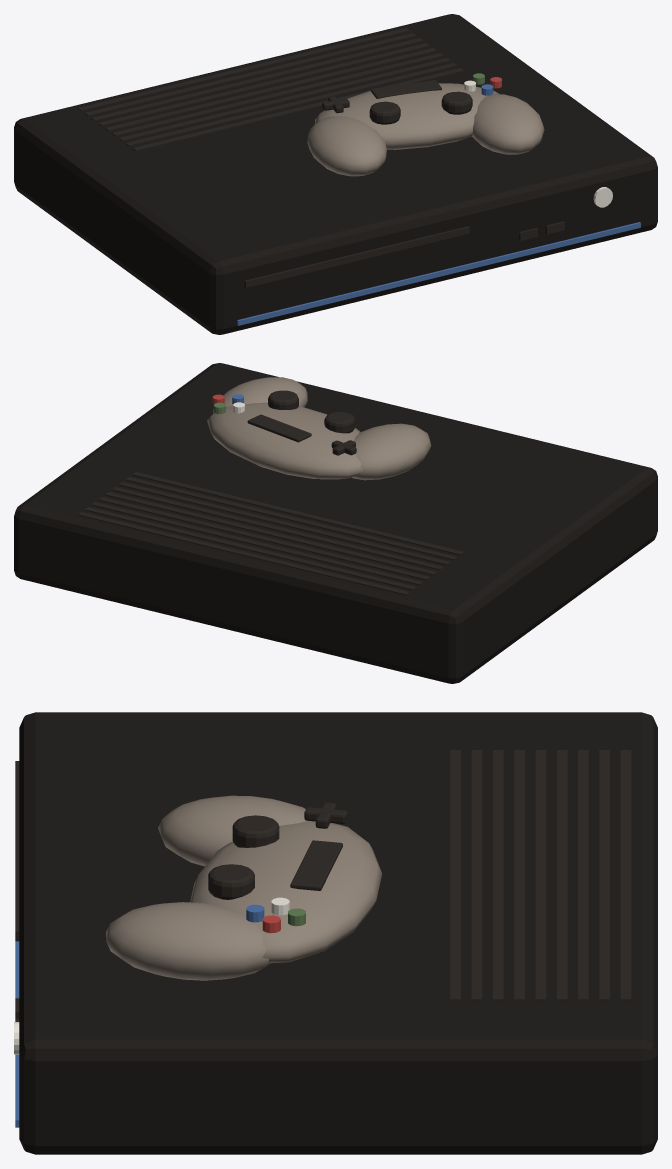
The model's file is hh_cat_console.glb.
3 renders of one model, top to bottom at view 1: azimuth 30°, elevation 25°; view 2: azimuth 150°, elevation 25°; view 3: azimuth 270°, elevation 25°, orthographic. The views are drawn at different scales.
Visible parts, largest first — view 1: body, pad_body, pad_grip, pad_grip.001, led_strip, disc_slot, vent.005, vent.004, vent, vent.001, vent.002, vent.006 (+6 smaller); view 2: body, pad_body, pad_grip, vent.002, vent.005, vent, vent.001, vent.003, vent.004, vent.006, vent.008, vent.007 (+4 smaller); view 3: body, pad_body, pad_grip.001, pad_grip, vent, vent.004, vent.007, vent.001, vent.002, vent.003, vent.005, vent.006 (+6 smaller).
Part boxes in pixels (box(x1,y1,x2,y2)): body: box(14, 14, 657, 334); pad_body: box(314, 83, 499, 149); pad_grip: box(307, 116, 387, 176); pad_grip.001: box(472, 94, 544, 154); led_strip: box(237, 222, 640, 325); disc_slot: box(244, 226, 469, 287); vent.005: box(112, 53, 443, 136); vent.004: box(105, 48, 436, 131); vent: box(78, 28, 409, 111); vent.001: box(85, 33, 416, 116); vent.002: box(91, 38, 423, 121); vent.006: box(119, 58, 450, 141); body: box(14, 363, 657, 683); pad_body: box(207, 402, 364, 479); pad_grip: box(352, 423, 431, 480); vent.002: box(91, 502, 423, 585); vent.005: box(112, 487, 443, 570); vent: box(78, 512, 409, 595); vent.001: box(85, 507, 416, 590); vent.003: box(98, 497, 429, 580); vent.004: box(105, 492, 436, 575); vent.006: box(119, 482, 450, 565); vent.008: box(132, 472, 463, 555); vent.007: box(126, 477, 457, 560); body: box(19, 712, 657, 1154); pad_body: box(190, 821, 382, 963); pad_grip.001: box(106, 902, 270, 980); pad_grip: box(158, 795, 307, 866); vent: box(620, 750, 631, 1000); vent.004: box(535, 750, 546, 1000); vent.007: box(471, 750, 482, 1000); vent.001: box(599, 750, 609, 1000); vent.002: box(578, 750, 588, 1000); vent.003: box(557, 750, 567, 1000); vent.005: box(514, 750, 524, 1000); vent.006: box(493, 750, 503, 1000).
Bounding box in the file's own units: 0.3 × 0.08 × 0.24.
